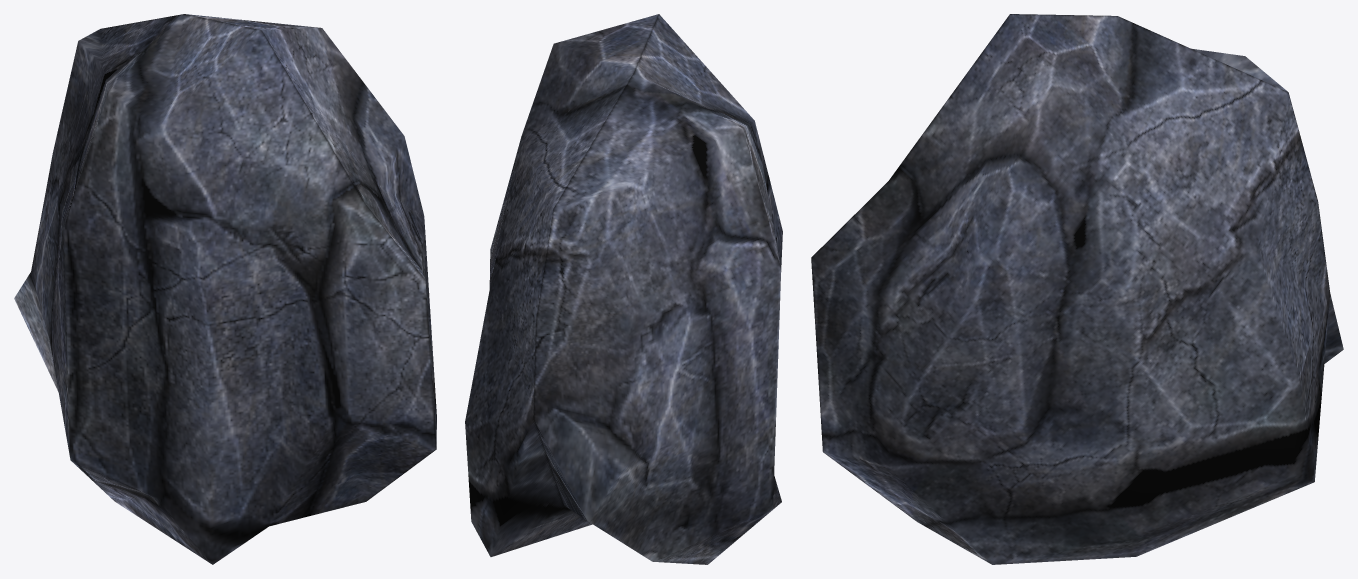
The model's file is Rocks1LOD1.FBX.
3 views of the same model, side by side, from view 1: azimuth 30°, elevation 25°; view 2: azimuth 150°, elevation 25°; view 3: azimuth 270°, elevation 25° (orthographic). The views are drawn at different scales.
Visible parts, largest first — view 1: default; view 2: default; view 3: default.
Boxes of the visible parts, bbox=[...] form: default: bbox=[14, 14, 436, 564]; default: bbox=[465, 14, 782, 564]; default: bbox=[811, 14, 1343, 564].
Bounding box in the file's own units: 2.82 × 4.37 × 4.11.
